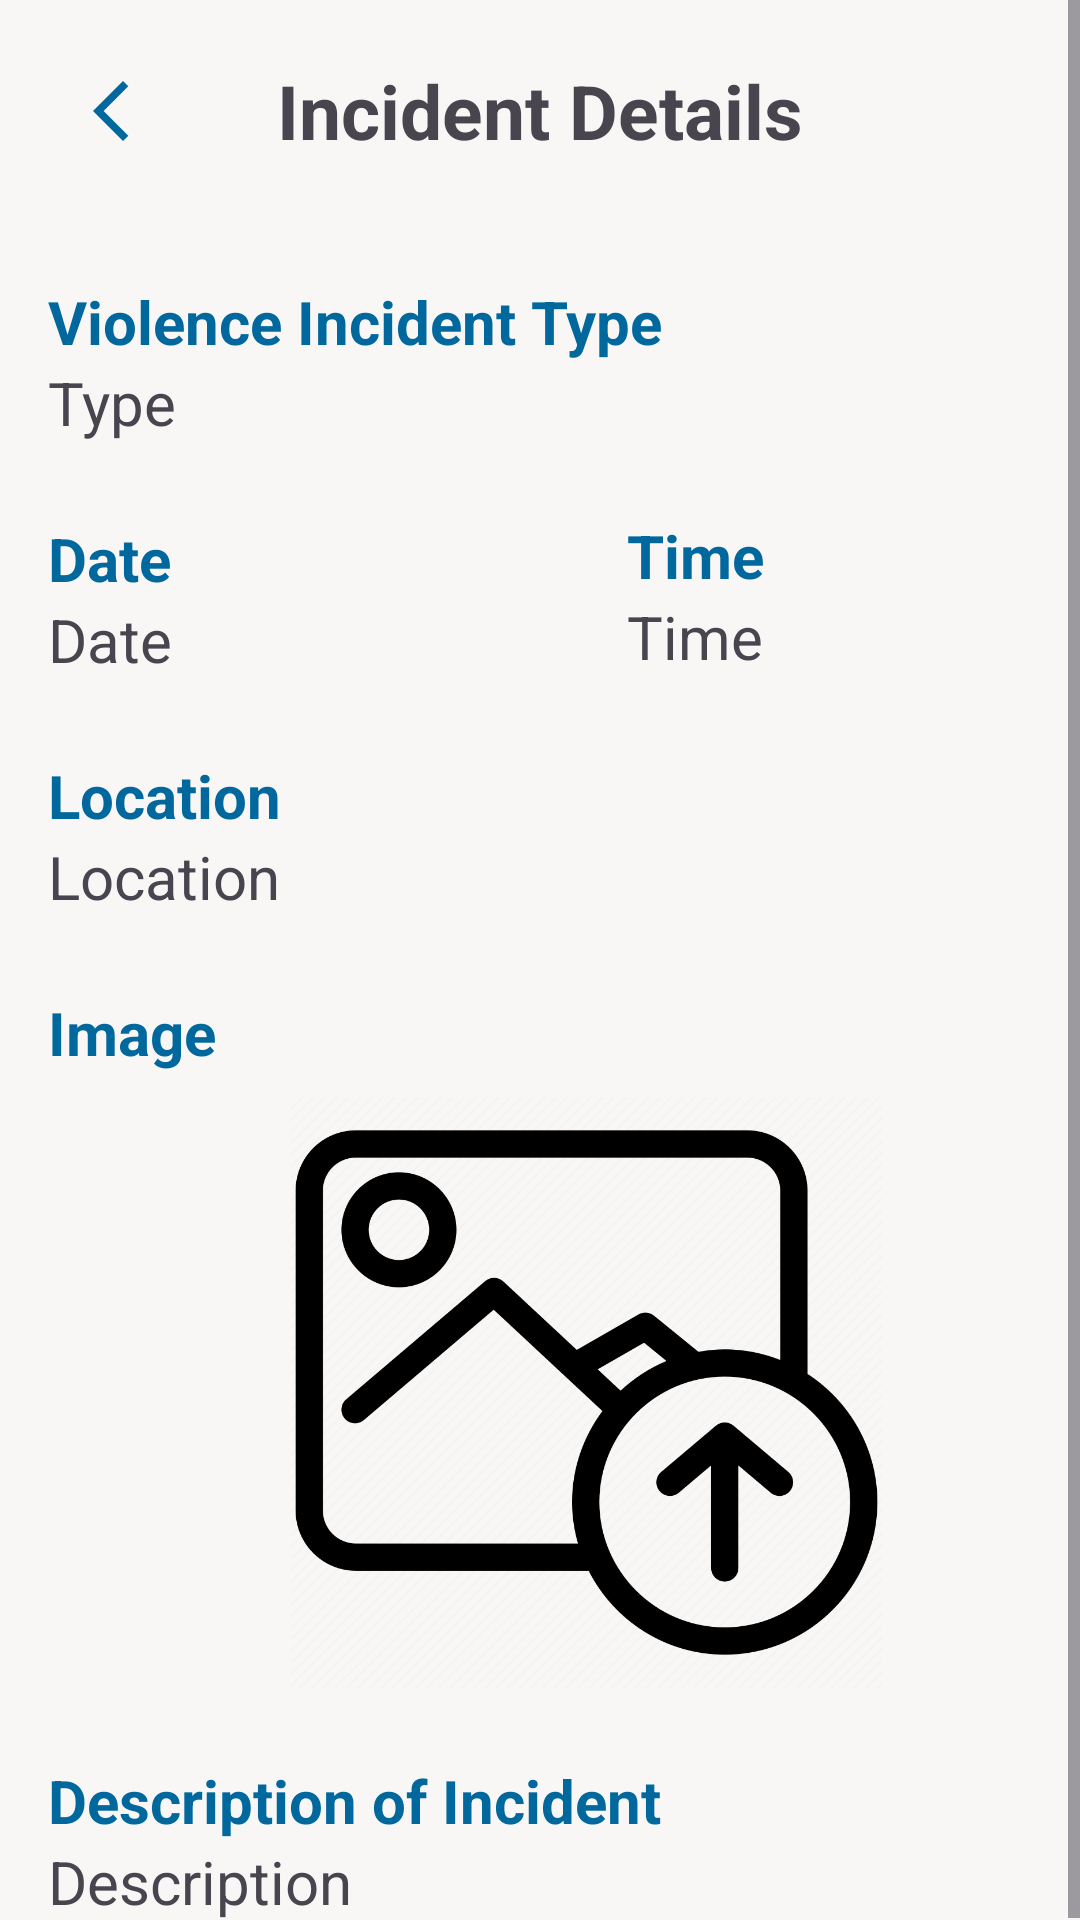

Where to tap for icons on this 1080px×1920px app screen, as [x,y]:
back: [110,111]
